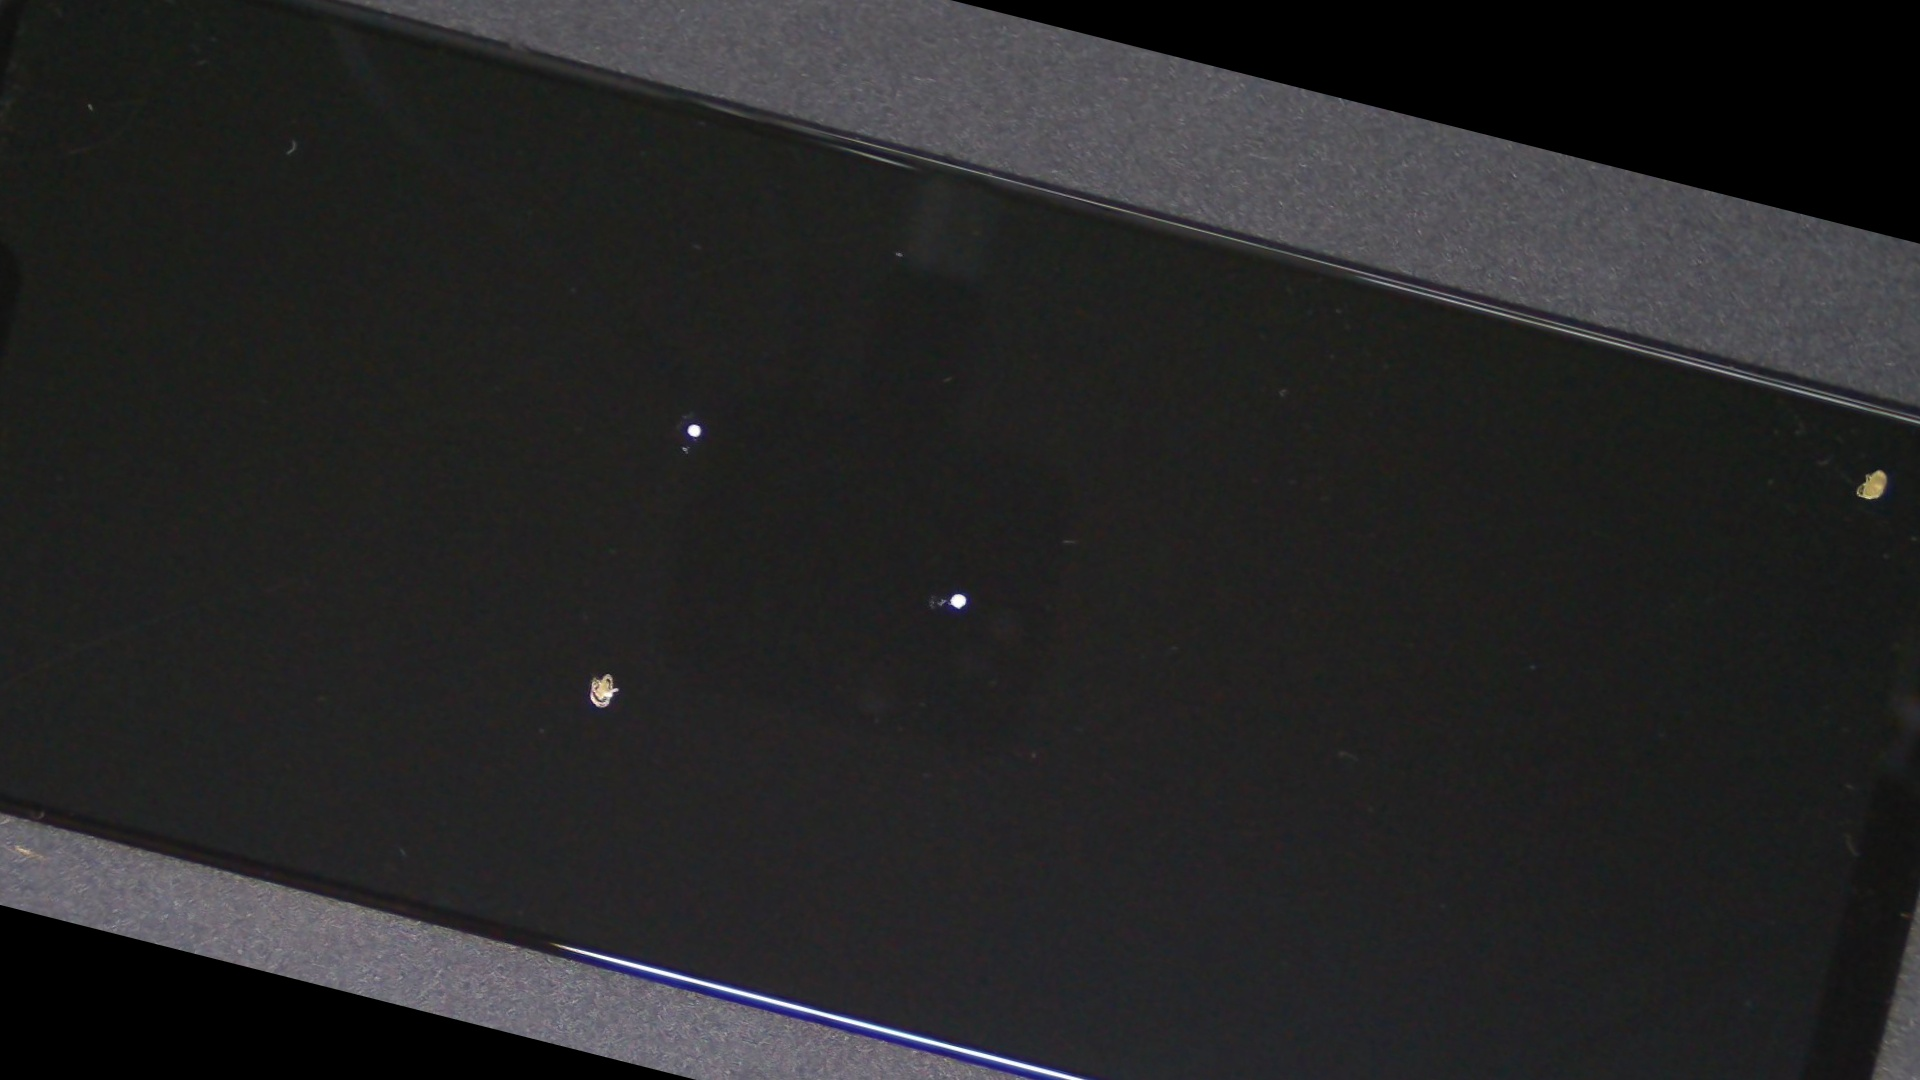oil: (320, 171, 1600, 1013), (105, 210, 1112, 1080), (211, 86, 1172, 758), (864, 108, 1920, 630)
